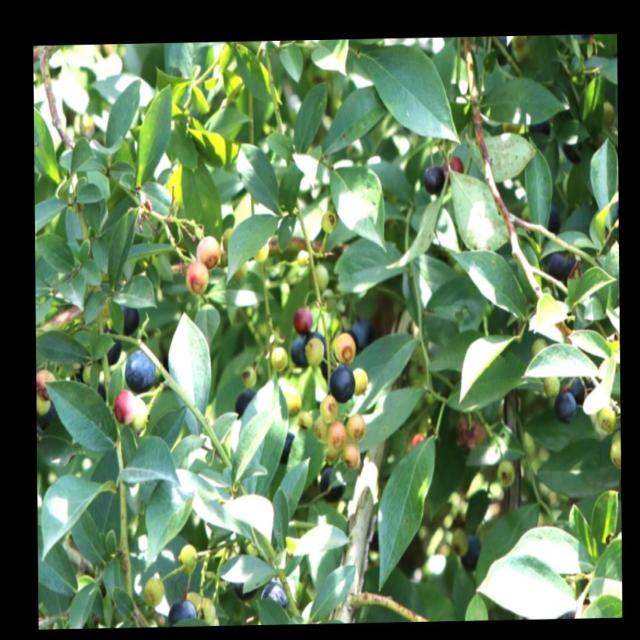blueberry: (122, 345, 159, 395), (260, 578, 290, 616), (329, 365, 355, 404), (551, 391, 577, 424), (167, 598, 199, 622), (423, 163, 447, 194), (461, 535, 481, 568), (277, 430, 295, 464), (235, 388, 257, 414)
blueberry-halfripe: (110, 386, 136, 424), (183, 259, 210, 292), (196, 233, 220, 268), (291, 306, 314, 336)
blueberry-unripe: (332, 329, 356, 364), (142, 573, 165, 607), (303, 336, 326, 368), (130, 397, 150, 432), (177, 543, 198, 576), (317, 393, 338, 426), (282, 385, 302, 419), (345, 409, 366, 440), (325, 417, 345, 449), (338, 440, 360, 468), (269, 345, 290, 373), (350, 365, 368, 395), (242, 363, 257, 391), (297, 408, 312, 430)
